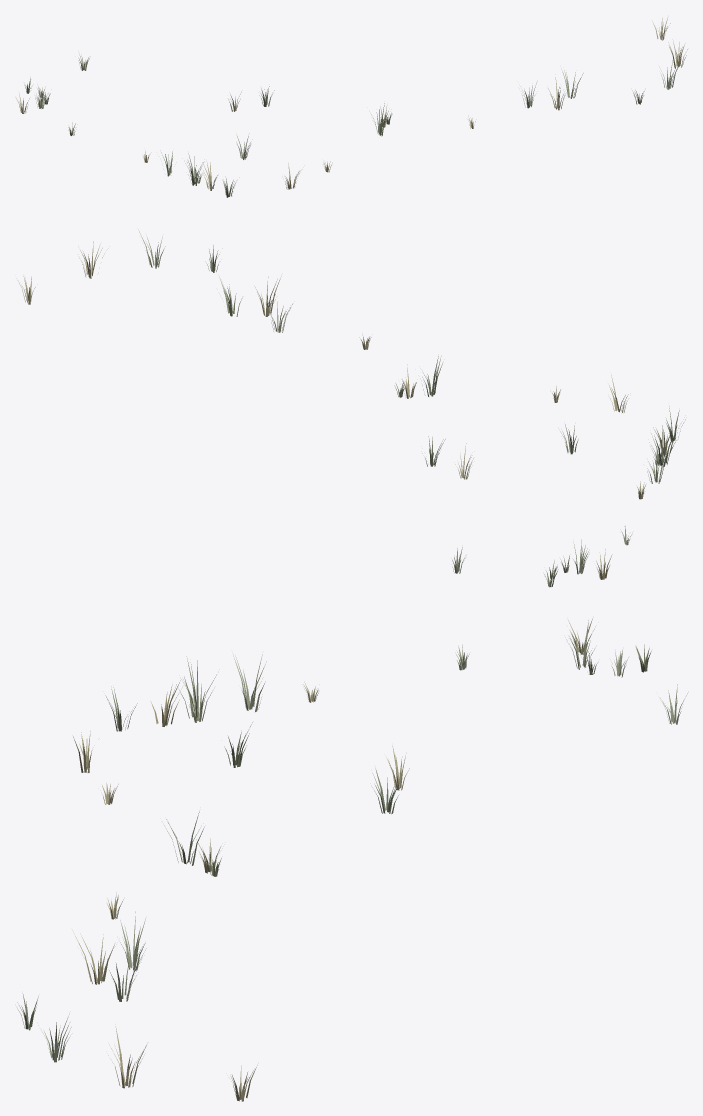
File: AE_Grass_-5_-3.fbx
The picture shows the model from 3 angles, top to bottom: view 1: azimuth 30°, elevation 25°; view 2: azimuth 150°, elevation 25°; view 3: azimuth 270°, elevation 25°; orthographic projection. The views are drawn at different scales.
Visible parts, largest first — view 1: AE_Grass_-5_-3_LOD0; view 2: AE_Grass_-5_-3_LOD0; view 3: AE_Grass_-5_-3_LOD0.
Part boxes in pixels (box(x1,y1,x2,y2)): AE_Grass_-5_-3_LOD0: box(15, 18, 687, 197); AE_Grass_-5_-3_LOD0: box(16, 229, 685, 587); AE_Grass_-5_-3_LOD0: box(17, 618, 687, 1101).
Size of what is drawn, in the model's own units: 1771 by 145 by 1052.
